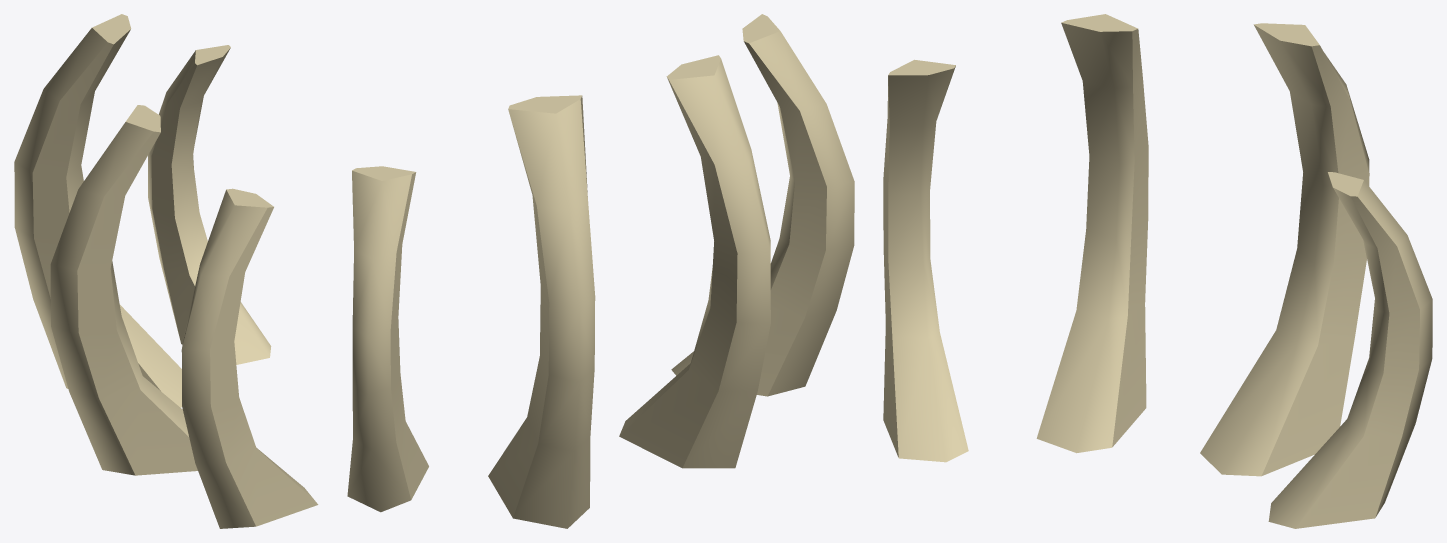
The model's file is P_bone_03_LD.fbx.
3 views of the same model, side by side, from view 1: azimuth 30°, elevation 25°; view 2: azimuth 150°, elevation 25°; view 3: azimuth 270°, elevation 25° (orthographic). The views are drawn at different scales.
Parts seen in each view (by area): view 1: P_bone_03; view 2: P_bone_03; view 3: P_bone_03.
Part boxes in pixels (x1,y1,x2,y2): P_bone_03: (14,14,318,528); P_bone_03: (347,14,854,528); P_bone_03: (883,14,1432,528).
Bounding box in the file's own units: 33.77 × 40.02 × 48.47.
Materials: 1 (1 with a texture image).
